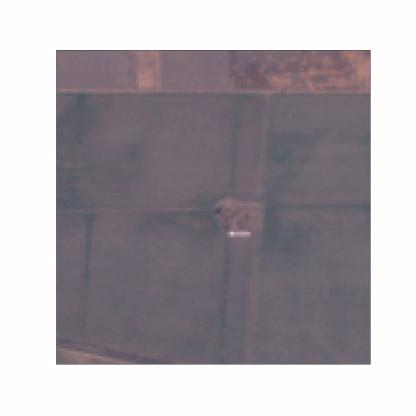silobolsa: (226, 230, 252, 236)
